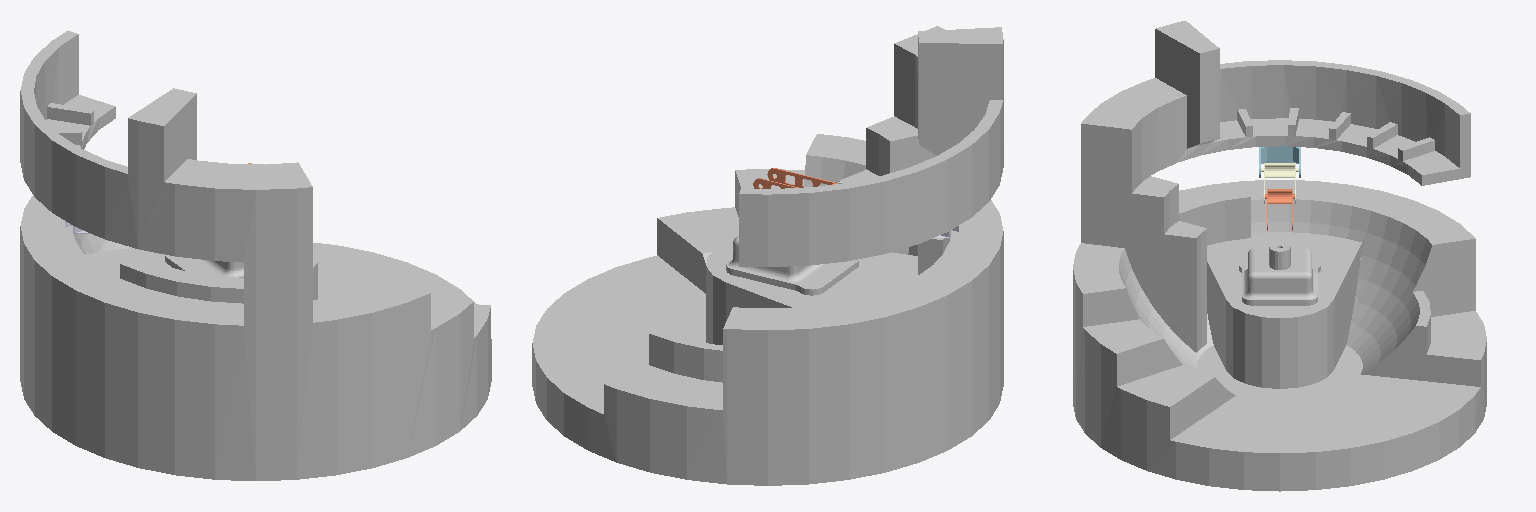
The robot description file, URDF, robot "Robot_URDF_V1":
<?xml version="1.0" encoding="utf-8"?>
<!-- This URDF was automatically created by SolidWorks to URDF Exporter! Originally created by [author] ([email redacted]) 
     Commit Version: 1.6.0-4-g7f85cfe  Build Version: 1.6.7995.38578
     For more information, please see http://wiki.ros.org/sw_urdf_exporter -->
<robot
  name="Robot_URDF_V1">
  <link
    name="Base_Link">
    <inertial>
      <origin
        xyz="-0.023518 -0.010863 0.071827"
        rpy="0 0 0" />
      <mass
        value="233.41" />
      <inertia
        ixx="10.744"
        ixy="0.13376"
        ixz="0.54602"
        iyy="10.299"
        iyz="0.28982"
        izz="11.726" />
    </inertial>
    <visual>
      <origin
        xyz="0 0 0"
        rpy="0 0 0" />
      <geometry>
        <mesh
          filename="package://Robot_URDF_V1/meshes/Base_Link.STL" />
      </geometry>
      <material
        name="">
        <color
          rgba="0.8275 0.8275 0.8275 1" />
      </material>
    </visual>
    <collision>
      <origin
        xyz="0 0 0"
        rpy="0 0 0" />
      <geometry>
        <mesh
          filename="package://Robot_URDF_V1/meshes/Base_Link.STL" />
      </geometry>
    </collision>
  </link>
  <link
    name="Link_1">
    <inertial>
      <origin
        xyz="-4.4073E-18 1.5631E-19 0.027848"
        rpy="0 0 0" />
      <mass
        value="0.46369" />
      <inertia
        ixx="0.00017765"
        ixy="1.4414E-21"
        ixz="6.4285E-21"
        iyy="0.00016376"
        iyz="-2.9856E-20"
        izz="7.9649E-05" />
    </inertial>
    <visual>
      <origin
        xyz="0 0 0"
        rpy="0 0 0" />
      <geometry>
        <mesh
          filename="package://Robot_URDF_V1/meshes/Link_1.STL" />
      </geometry>
      <material
        name="">
        <color
          rgba="0.9412 0.502 0.502 1" />
      </material>
    </visual>
    <collision>
      <origin
        xyz="0 0 0"
        rpy="0 0 0" />
      <geometry>
        <mesh
          filename="package://Robot_URDF_V1/meshes/Link_1.STL" />
      </geometry>
    </collision>
  </link>
  <joint
    name="Joint1"
    type="revolute">
    <origin
      xyz="0 0 0.09"
      rpy="0 0 0" />
    <parent
      link="Base_Link" />
    <child
      link="Link_1" />
    <axis
      xyz="0 0 -1" />
    <limit
      lower="-1.57"
      upper="1.57"
      effort="10"
      velocity="100" />
  </joint>
  <link
    name="Link_2">
    <inertial>
      <origin
        xyz="-0.054976 -0.018645 0"
        rpy="0 0 0" />
      <mass
        value="0.11993" />
      <inertia
        ixx="5.3919E-05"
        ixy="4.0276E-20"
        ixz="1.6024E-20"
        iyy="0.00022432"
        iyz="-1.7933E-21"
        izz="0.00026271" />
    </inertial>
    <visual>
      <origin
        xyz="0 0 0"
        rpy="0 0 0" />
      <geometry>
        <mesh
          filename="package://Robot_URDF_V1/meshes/Link_2.STL" />
      </geometry>
      <material
        name="">
        <color
          rgba="1 0.6275 0.4784 1" />
      </material>
    </visual>
    <collision>
      <origin
        xyz="0 0 0"
        rpy="0 0 0" />
      <geometry>
        <mesh
          filename="package://Robot_URDF_V1/meshes/Link_2.STL" />
      </geometry>
    </collision>
  </link>
  <joint
    name="Joint2"
    type="revolute">
    <origin
      xyz="-0.012595 0.018645 0.045"
      rpy="0 0 0" />
    <parent
      link="Link_1" />
    <child
      link="Link_2" />
    <axis
      xyz="0 -1 0" />
    <limit
      lower="-1.57"
      upper="1.57"
      effort="10"
      velocity="100" />
  </joint>
  <link
    name="Link_3">
    <inertial>
      <origin
        xyz="-0.074221 0.037108 2.7756E-17"
        rpy="0 0 0" />
      <mass
        value="0.12851" />
      <inertia
        ixx="8.1361E-05"
        ixy="5.2735E-20"
        ixz="-2.1783E-20"
        iyy="0.00023943"
        iyz="4.5178E-20"
        izz="0.00030386" />
    </inertial>
    <visual>
      <origin
        xyz="0 0 0"
        rpy="0 0 0" />
      <geometry>
        <mesh
          filename="package://Robot_URDF_V1/meshes/Link_3.STL" />
      </geometry>
      <material
        name="">
        <color
          rgba="1 1 0.8784 1" />
      </material>
    </visual>
    <collision>
      <origin
        xyz="0 0 0"
        rpy="0 0 0" />
      <geometry>
        <mesh
          filename="package://Robot_URDF_V1/meshes/Link_3.STL" />
      </geometry>
    </collision>
  </link>
  <joint
    name="Joint3"
    type="revolute">
    <origin
      xyz="-0.091464 -0.055753 0"
      rpy="0 0 0" />
    <parent
      link="Link_2" />
    <child
      link="Link_3" />
    <axis
      xyz="0 -1 0" />
    <limit
      lower="-1.57"
      upper="1.57"
      effort="10"
      velocity="100" />
  </joint>
  <link
    name="Link_4">
    <inertial>
      <origin
        xyz="-0.062349 0.090789 -5.5511E-17"
        rpy="0 0 0" />
      <mass
        value="0.14501" />
      <inertia
        ixx="0.00013446"
        ixy="-2.1289E-20"
        ixz="1.968E-20"
        iyy="0.00012072"
        iyz="-3.1209E-21"
        izz="0.00022946" />
    </inertial>
    <visual>
      <origin
        xyz="0 0 0"
        rpy="0 0 0" />
      <geometry>
        <mesh
          filename="package://Robot_URDF_V1/meshes/Link_4.STL" />
      </geometry>
      <material
        name="">
        <color
          rgba="0.6784 0.8471 0.902 1" />
      </material>
    </visual>
    <collision>
      <origin
        xyz="0 0 0"
        rpy="0 0 0" />
      <geometry>
        <mesh
          filename="package://Robot_URDF_V1/meshes/Link_4.STL" />
      </geometry>
    </collision>
  </link>
  <joint
    name="Joint4"
    type="revolute">
    <origin
      xyz="-0.092863 -0.053681 0"
      rpy="0 0 0" />
    <parent
      link="Link_3" />
    <child
      link="Link_4" />
    <axis
      xyz="0 1 0" />
    <limit
      lower="-1.57"
      upper="1.57"
      effort="10"
      velocity="100" />
  </joint>
  <link
    name="End_Effector_1">
    <inertial>
      <origin
        xyz="-3.8218E-06 -0.013 -1.0749E-06"
        rpy="0 0 0" />
      <mass
        value="0.053376" />
      <inertia
        ixx="2.5712E-05"
        ixy="-1.1078E-20"
        ixz="2.1927E-13"
        iyy="1.4367E-05"
        iyz="4.1684E-21"
        izz="2.3859E-05" />
    </inertial>
    <visual>
      <origin
        xyz="0 0 0"
        rpy="0 0 0" />
      <geometry>
        <mesh
          filename="package://Robot_URDF_V1/meshes/End_Effector_1.STL" />
      </geometry>
      <material
        name="">
        <color
          rgba="0.902 0.902 0.9804 1" />
      </material>
    </visual>
    <collision>
      <origin
        xyz="0 0 0"
        rpy="0 0 0" />
      <geometry>
        <mesh
          filename="package://Robot_URDF_V1/meshes/End_Effector_1.STL" />
      </geometry>
    </collision>
  </link>
  <joint
    name="Joint5_1"
    type="fixed">
    <origin
      xyz="-0.096557 0.10379 0"
      rpy="0 0 0" />
    <parent
      link="Link_4" />
    <child
      link="End_Effector_1" />
    <axis
      xyz="0 0 0" />
    <limit
      lower="-1.57"
      upper="1.57"
      effort="10"
      velocity="100" />
  </joint>
</robot>

--- What the picture shows (computed from the rendered views, not written in the file) ---
3 views of the same robot in one strip: view 1: azimuth 30°, elevation 25°; view 2: azimuth 150°, elevation 25°; view 3: azimuth 270°, elevation 25° (orthographic).
Robot: Robot_URDF_V1 — 6 links, 5 joints (4 revolute, 1 fixed); root link Base_Link; default pose: every joint at zero.
Visible links, largest first — view 1: Base_Link; view 2: Base_Link, Link_2; view 3: Base_Link, Link_4, Link_3.
Link boxes in pixels (x1,y1,x2,y2): Base_Link: (20, 31, 491, 480); Base_Link: (532, 26, 1003, 485); Link_2: (753, 168, 837, 188); Base_Link: (1073, 21, 1486, 491); Link_4: (1259, 146, 1300, 177); Link_3: (1261, 163, 1298, 203).
Size in the robot's own frame: 0.7054 by 0.7054 by 0.5737 metres.
5 mesh visuals loaded from 6 distinct referenced files (5 binary STL); not drawn: 1 (reference not matched to a file when rendering).